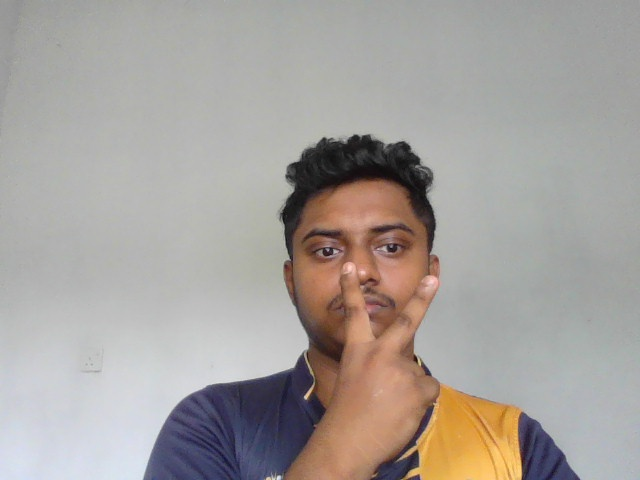See You: (312, 260, 444, 469)
